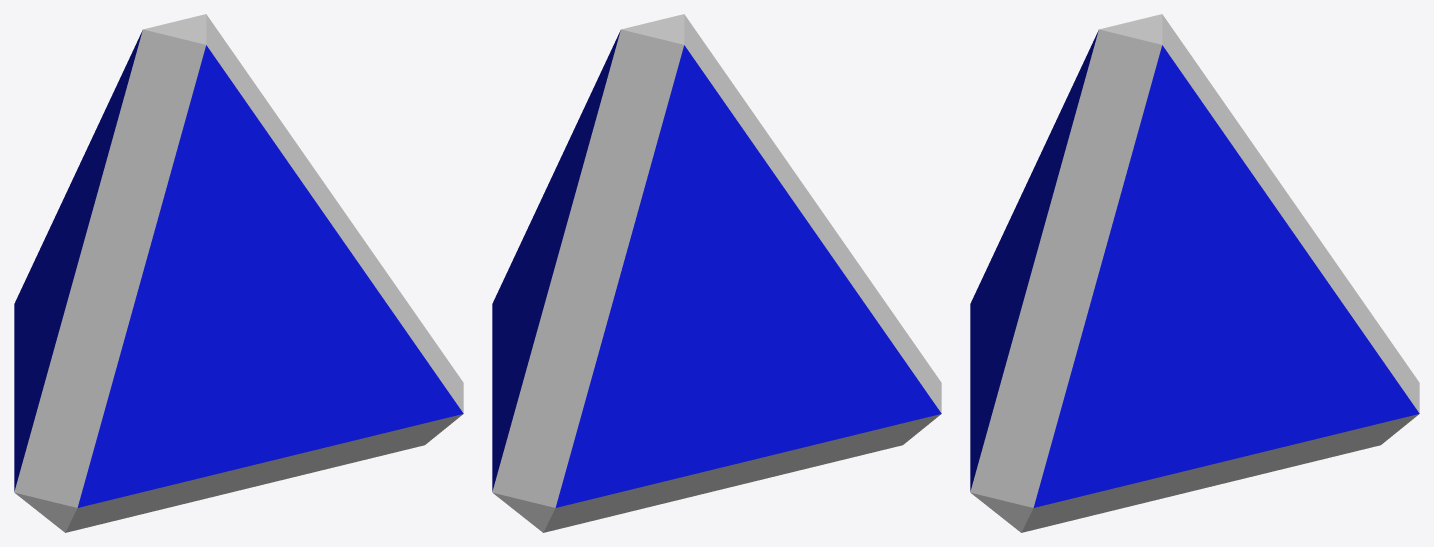
3 views of the same model, side by side, from view 1: azimuth 30°, elevation 25°; view 2: azimuth 150°, elevation 25°; view 3: azimuth 270°, elevation 25° (orthographic).
Visible parts, largest first — view 1: Cone.001; view 2: Cone.001; view 3: Cone.001.
Part boxes in pixels (x1,y1,x2,y2): Cone.001: (14,14,463,532); Cone.001: (492,14,941,532); Cone.001: (970,14,1419,532).
Size of the model in its own units: 6.78 by 5.99 by 5.87.
